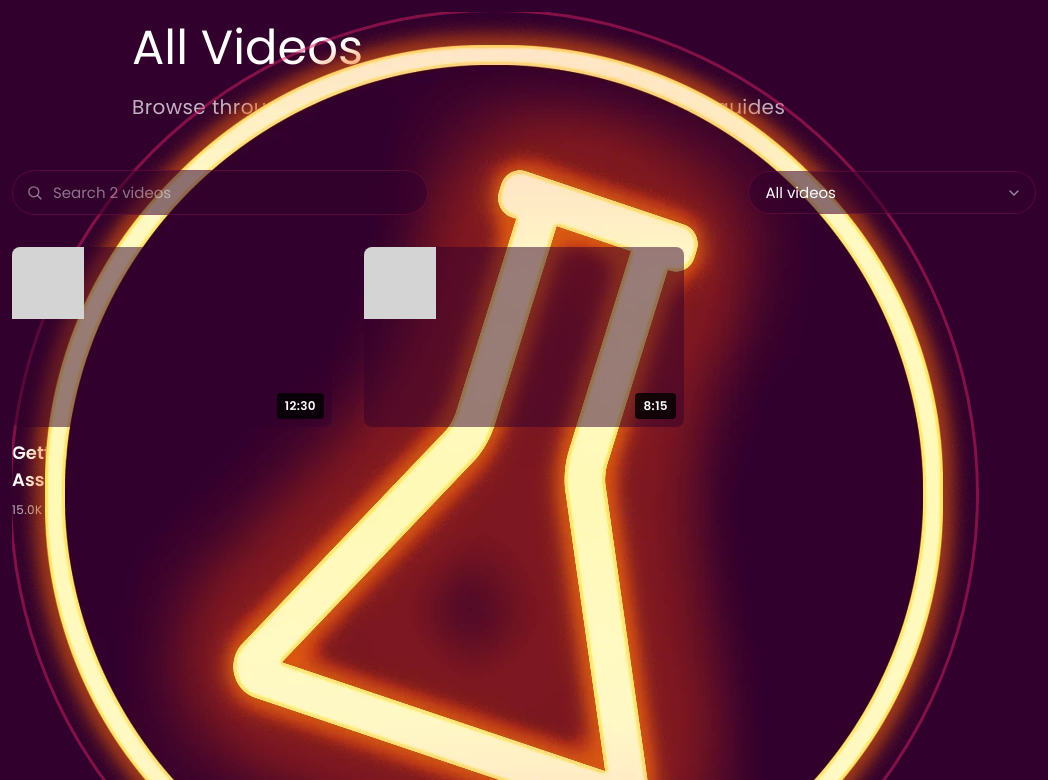
it: VideoGallery › text filter › restores everything when cleared
The image size is (1048, 780).
Type "lighting" into the search field.
click(220, 192); type("lighting")  # box [12,170,428,215]
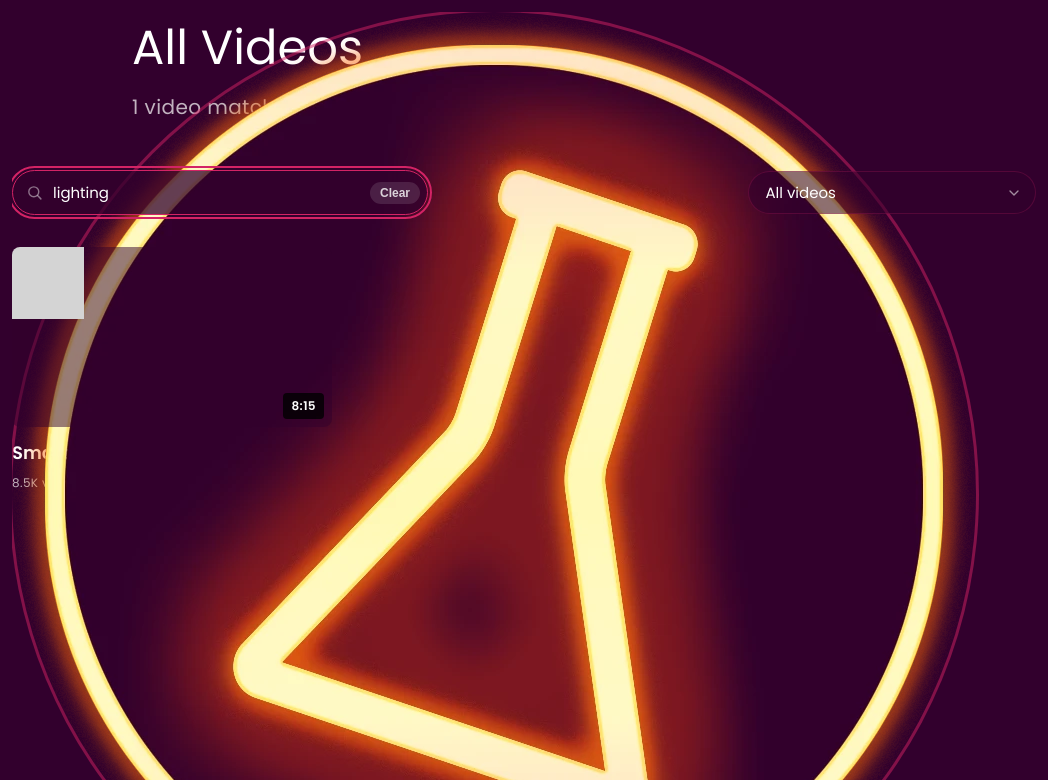
Click the button "Clear".
click(395, 192)  # box [370,182,420,204]
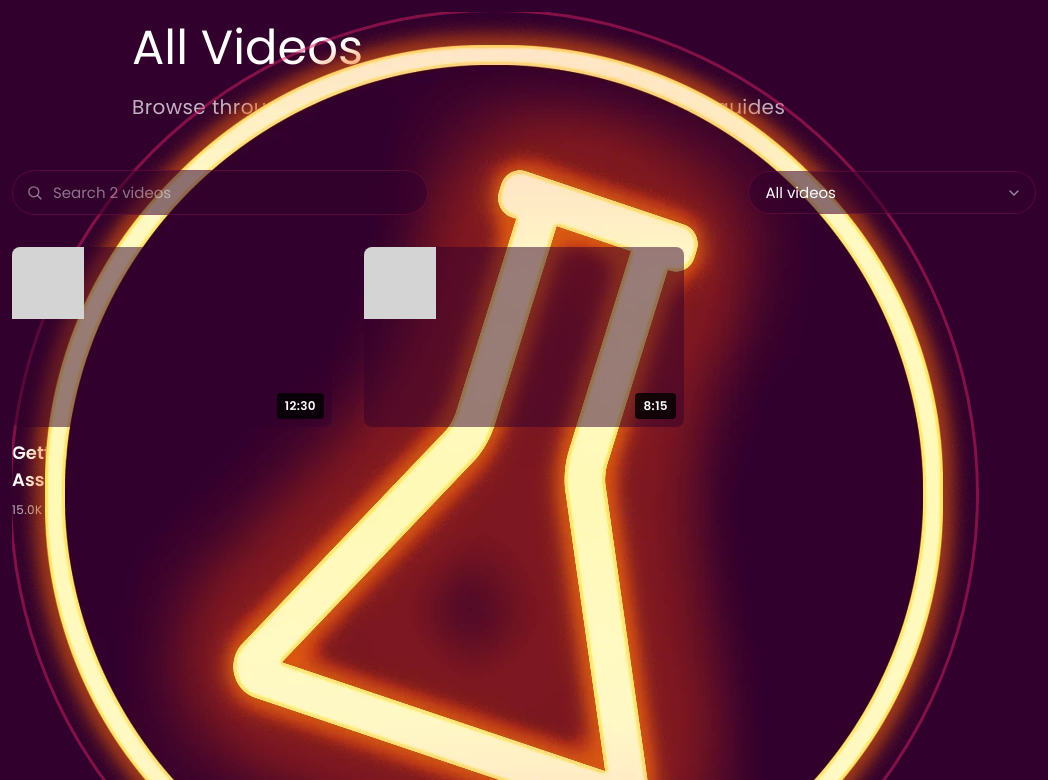
Result: the link "Getting Started with Home Assistant" is shown at [12,440,254,492]
Result: the search field is empty at [12,170,428,215]
